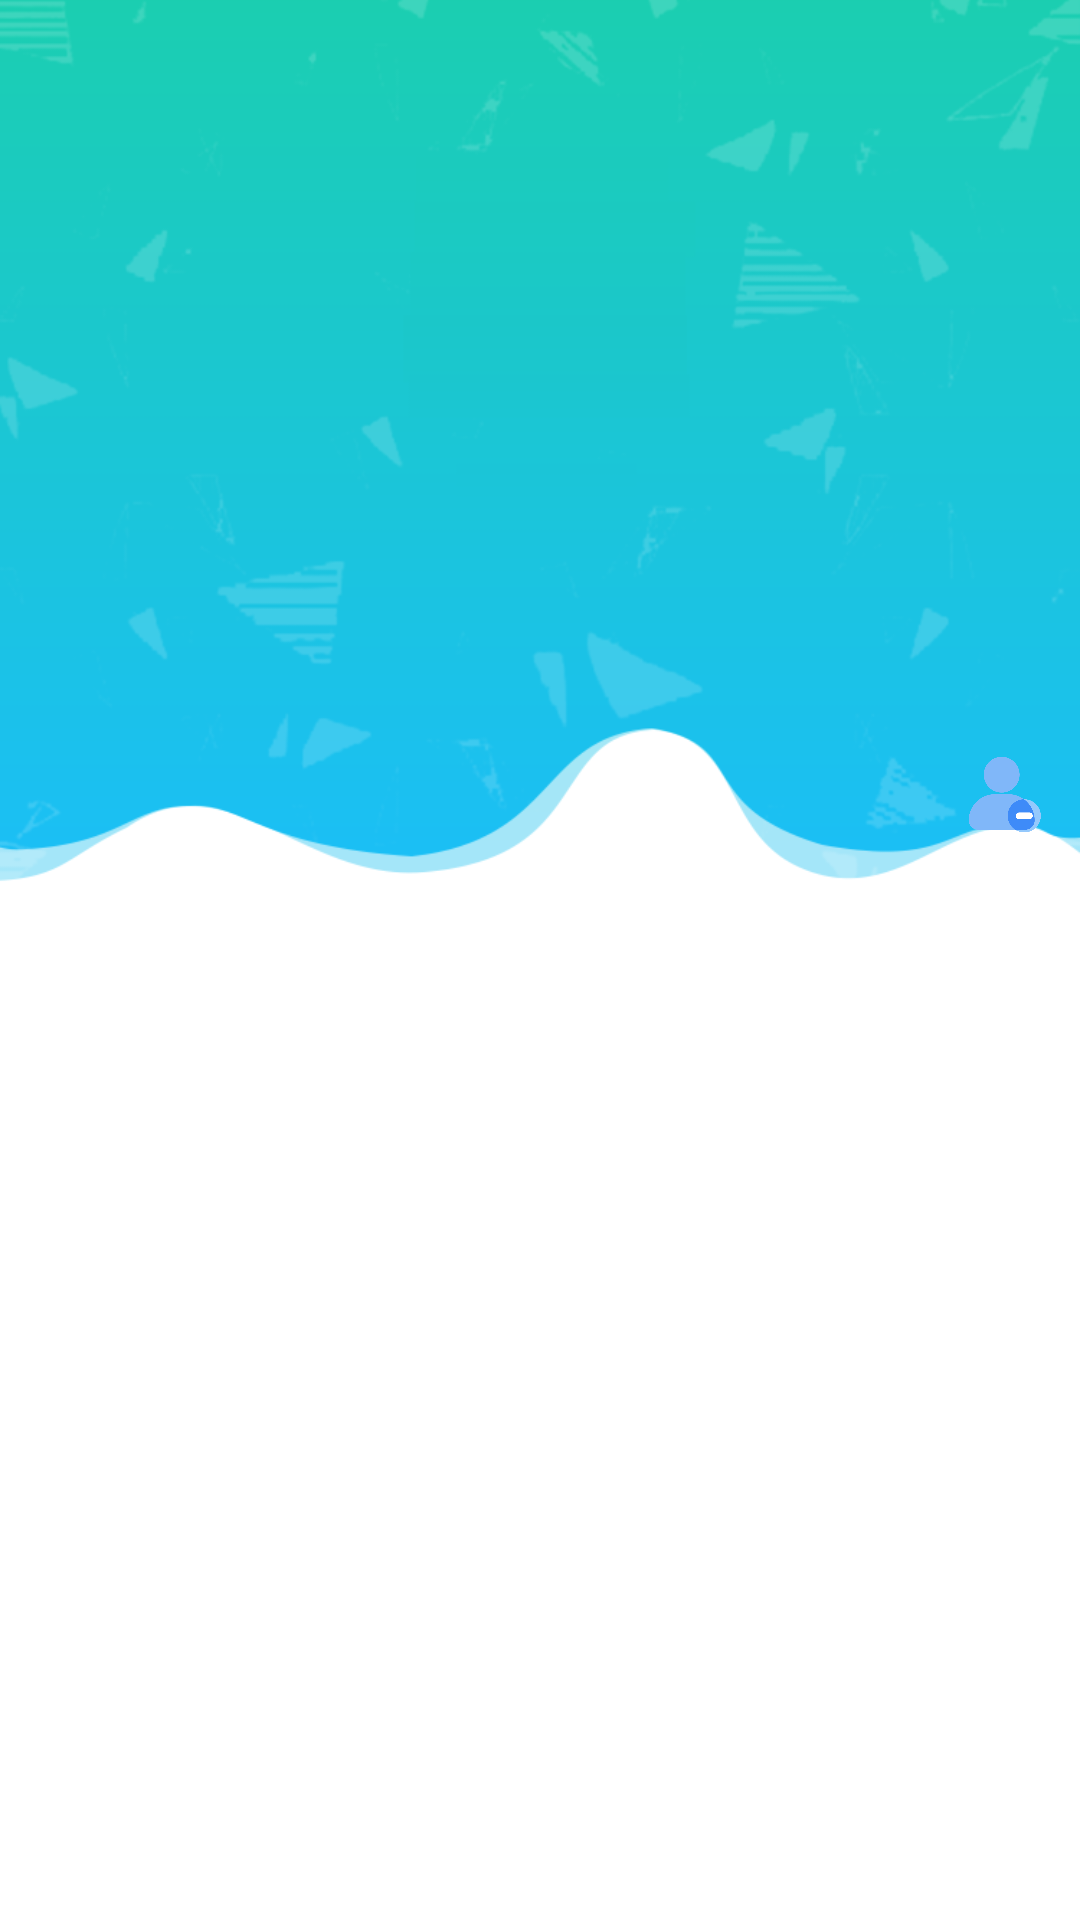

Screen size 1080*1920. Icon name, then its box in pixels as (x1,y1,x2,y2):
exit: (960,757,1050,840)
